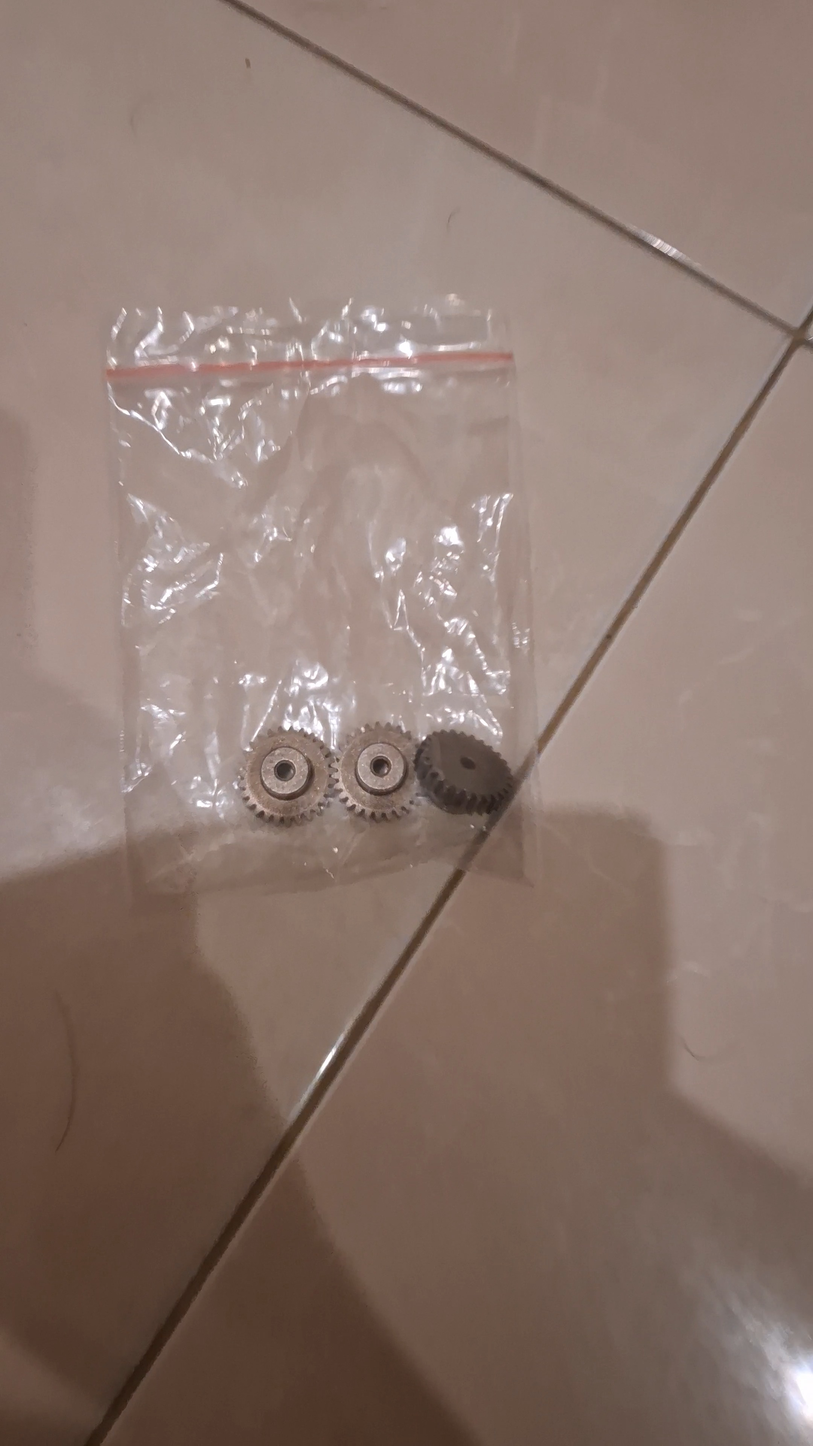spur gear: (238, 726, 336, 825), (411, 728, 516, 815), (332, 721, 422, 818)
